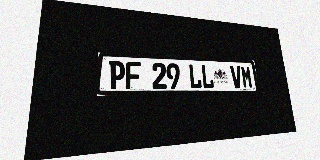2: (152, 62, 167, 89)
9: (166, 63, 181, 89)
F: (125, 61, 141, 89)
L: (188, 64, 202, 89), (201, 64, 214, 89)
M: (240, 66, 253, 88)
P: (109, 61, 125, 89)
V: (230, 65, 243, 88)
